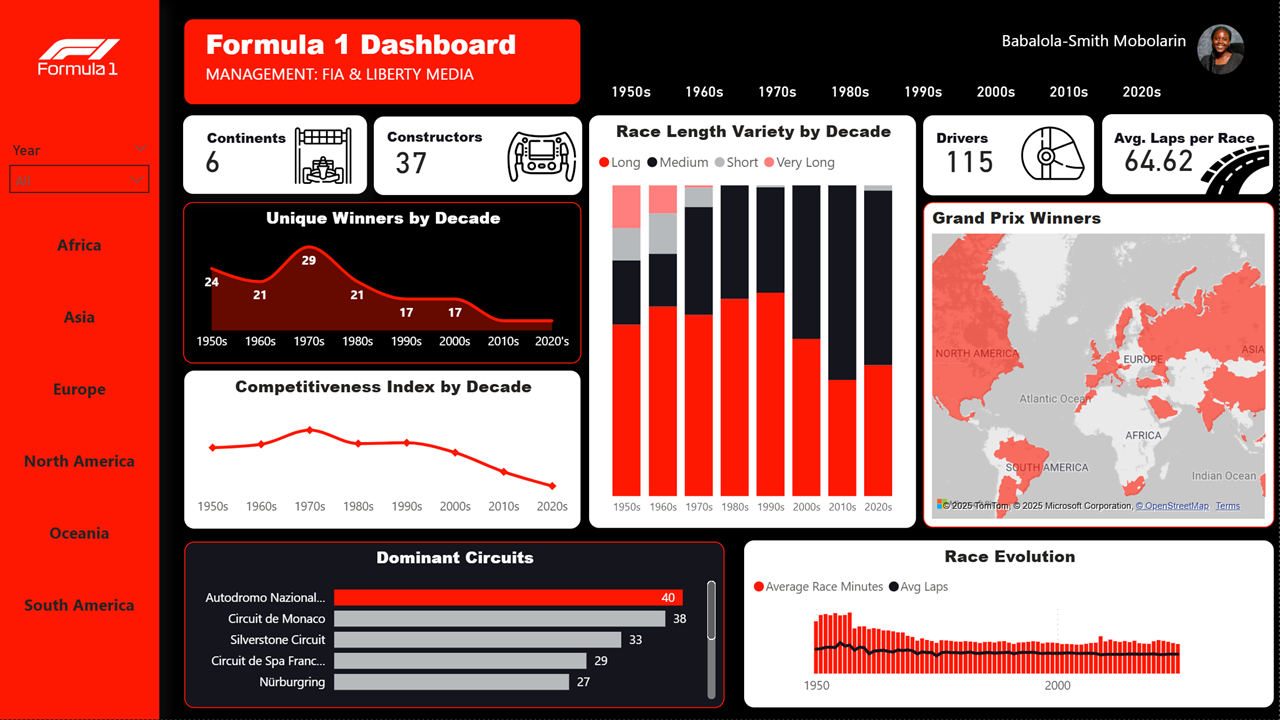

The page's visual inventory and layout, read from the dashboard file:
{"tool":"powerbi","page":{"name":"FIA - Sport Health","canvas":[1280,720],"ordinal":3},"visuals":[{"type":"cardVisual","fields":{"Data":["Count(Races.winner_name)"]},"box":[924.2,115.8,170.8,80],"z":0},{"type":"stackedAreaChart","title":"Unique Winners by Decade","fields":{"Category":["Races.decade"],"Y":["All Measures.Unique Winners"]},"box":[184.3,202.9,398.6,161.4],"z":1000},{"type":"lineChart","fields":{"Category":["Calendar.Decade"],"Y":["All Measures.Competitiveness Index"]},"box":[185.6,371.1,396.7,157.8],"z":2000},{"type":"shape","box":[0,0,160,720],"z":3000},{"type":"shape","box":[185,20,396.7,85],"z":4000},{"type":"textbox","box":[201.7,20,381.7,85],"z":5000},{"type":"image","box":[0,0,160,115],"z":6000},{"type":"advancedSlicerVisual","fields":{"Values":["Races.continent"]},"box":[0,202.9,160,447.1],"z":7000},{"type":"slicer","fields":{"Values":["Races.year"]},"box":[0,137.1,160,65.7],"z":8000},{"type":"cardVisual","fields":{"Data":["Count(Races.continent)"]},"box":[184.2,115.8,184.2,78.3],"z":9000},{"type":"hundredPercentStackedColumnChart","title":"Race Length Variety by Decade","fields":{"Category":["Calendar.Decade"],"Series":["Races.race_length"],"Y":["All Measures.Total Races"]},"box":[590,115.8,326.7,412.5],"z":10000},{"type":"textbox","box":[932,124,170,32],"z":11000},{"type":"barChart","title":"Dominant Circuits","fields":{"Category":["Races.circuit"],"Y":["All Measures.Unique Winners"]},"box":[185,541.7,540,166.7],"z":12000},{"type":"cardVisual","fields":{"Data":["All Measures.Avg Laps"]},"box":[1102.5,115,170.8,80],"z":13000},{"type":"textbox","box":[1110,124,170,32],"z":14000},{"type":"textbox","box":[202,124,158,32],"z":15000},{"type":"cardVisual","fields":{"Data":["Count(Races.constructors)"]},"box":[375,116.7,208.3,78.3],"z":16000},{"type":"lineClusteredColumnComboChart","title":"Race Evolution","fields":{"Category":["Calendar.Year"],"Y":["All Measures.Average Race Minutes"],"Y2":["All Measures.Avg Laps"]},"box":[744.3,541.4,530,167.1],"z":17000},{"type":"textbox","box":[997.1,24.3,208.6,38.6],"z":18000},{"type":"image","box":[1187.5,20,68.8,60],"z":19000},{"type":"advancedSlicerVisual","fields":{"Values":["Calendar.Decade"]},"box":[590,65,598.3,50],"z":20000},{"type":"image","box":[281.7,123.3,83.3,66.7],"z":21000},{"type":"textbox","box":[383.3,123.3,158.3,33.3],"z":22000},{"type":"image","box":[503.3,116.7,78.3,80],"z":23000},{"type":"image","box":[1196.7,130,78.3,83.3],"z":24000},{"type":"image","box":[1010,116.7,86.7,73.3],"z":25000},{"type":"filledMap","title":"Grand Prix Winners","fields":{"Category":["Races.grand_prix"]},"box":[924.3,202.9,351.4,325.7],"z":26000}]}

Visuals, with their boxes in screenshot pixels (x1, y1, x2, y2), scaled from the page's 1280x720 canvas onto the 1280x720 screenshot:
cardVisual - Count(Races.winner_name): l=924, t=116, r=1095, b=196
"Unique Winners by Decade" stackedAreaChart: l=184, t=203, r=583, b=364
lineChart - Calendar.Decade x All Measures.Competitiveness Index: l=186, t=371, r=582, b=529
shape: l=0, t=0, r=160, b=719
shape: l=185, t=20, r=582, b=105
textbox: l=202, t=20, r=583, b=105
image: l=0, t=0, r=160, b=115
advancedSlicerVisual - Races.continent: l=0, t=203, r=160, b=650
slicer - Races.year: l=0, t=137, r=160, b=203
cardVisual - Count(Races.continent): l=184, t=116, r=368, b=194
"Race Length Variety by Decade" hundredPercentStackedColumnChart: l=590, t=116, r=917, b=528
textbox: l=932, t=124, r=1102, b=156
"Dominant Circuits" barChart: l=185, t=542, r=725, b=708
cardVisual - All Measures.Avg Laps: l=1102, t=115, r=1273, b=195
textbox: l=1110, t=124, r=1279, b=156
textbox: l=202, t=124, r=360, b=156
cardVisual - Count(Races.constructors): l=375, t=117, r=583, b=195
"Race Evolution" lineClusteredColumnComboChart: l=744, t=541, r=1274, b=708
textbox: l=997, t=24, r=1206, b=63
image: l=1188, t=20, r=1256, b=80
advancedSlicerVisual - Calendar.Decade: l=590, t=65, r=1188, b=115
image: l=282, t=123, r=365, b=190
textbox: l=383, t=123, r=542, b=157
image: l=503, t=117, r=582, b=197
image: l=1197, t=130, r=1275, b=213
image: l=1010, t=117, r=1097, b=190
"Grand Prix Winners" filledMap: l=924, t=203, r=1276, b=529
